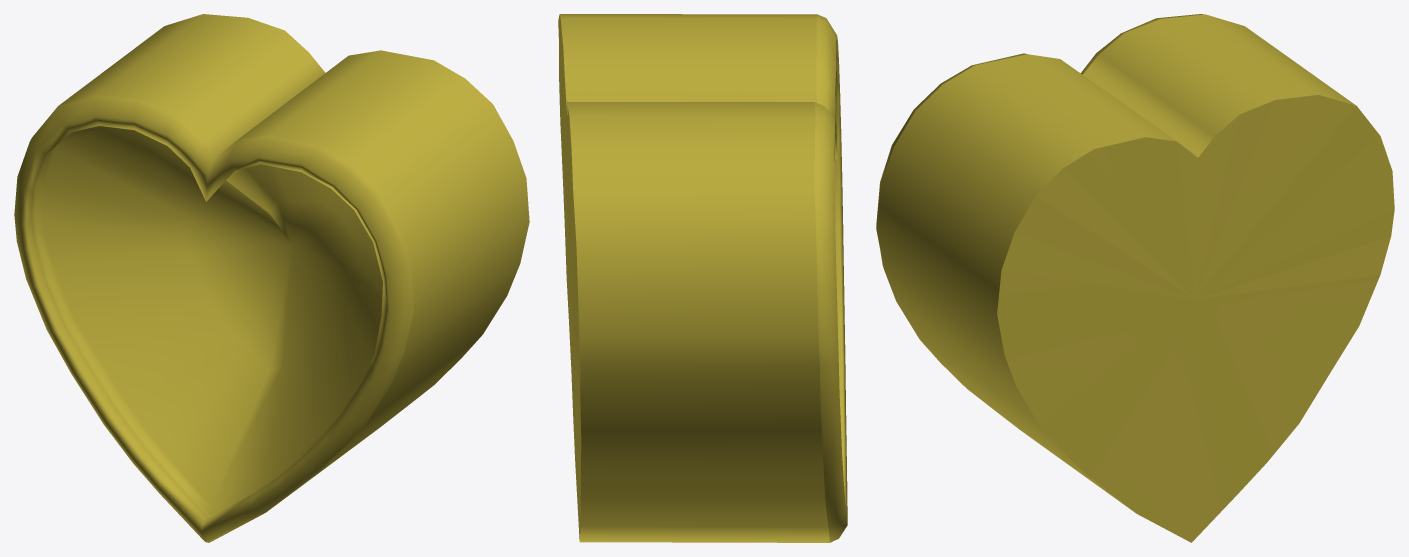
File: BL4_8shapes_heart_Classic_Metal.001 3.glb
3 renders of one model, left to right at view 1: azimuth 30°, elevation 25°; view 2: azimuth 150°, elevation 25°; view 3: azimuth 270°, elevation 25°, orthographic. The views are drawn at different scales.
Parts seen in each view (by area): view 1: BL4_8shapes_heart_Classic_Metal.001; view 2: BL4_8shapes_heart_Classic_Metal.001; view 3: BL4_8shapes_heart_Classic_Metal.001.
Part boxes in pixels (<box>): BL4_8shapes_heart_Classic_Metal.001: <box>14,14,529,542</box>; BL4_8shapes_heart_Classic_Metal.001: <box>558,14,847,542</box>; BL4_8shapes_heart_Classic_Metal.001: <box>876,14,1394,542</box>.
Bounding box in the file's own units: 0.478 × 0.5072 × 0.557.
